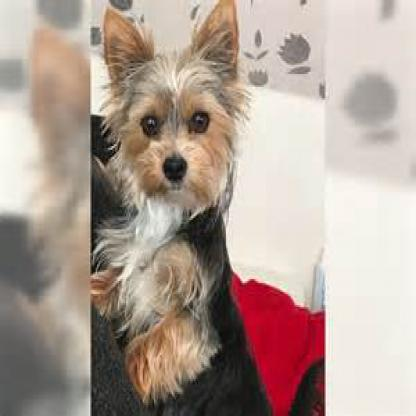dog: (89, 5, 273, 405)
